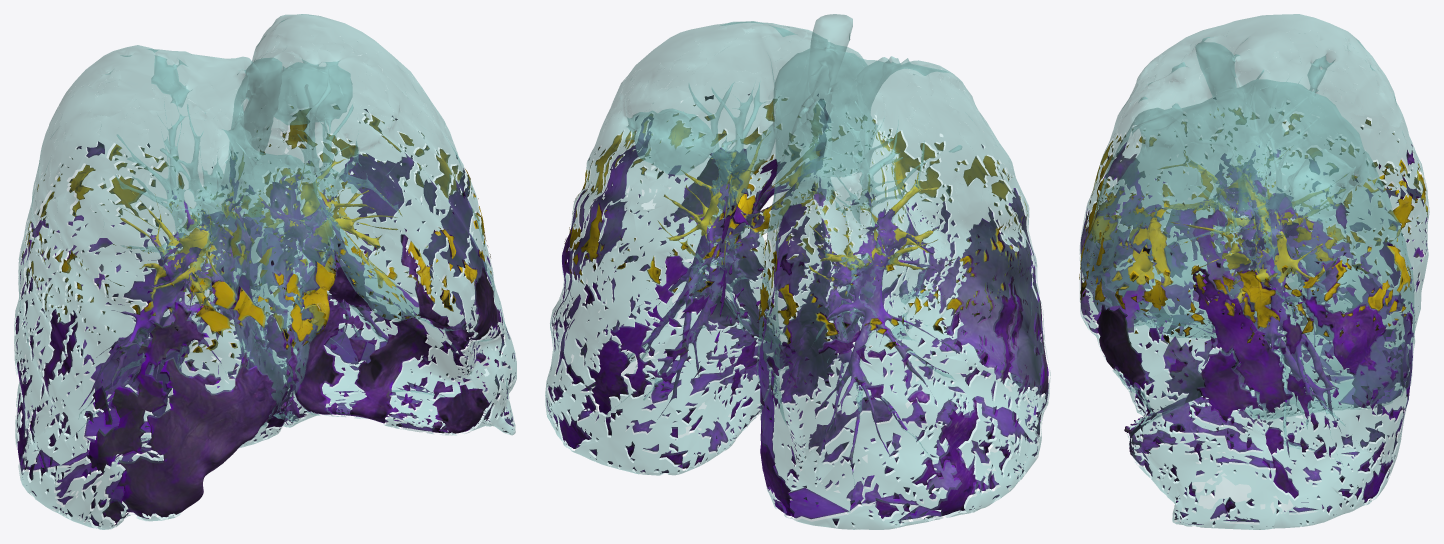
File: tbc-tratamiento.glb
3 renders of one model, left to right at view 1: azimuth 30°, elevation 25°; view 2: azimuth 150°, elevation 25°; view 3: azimuth 270°, elevation 25°, orthographic. The views are drawn at different scales.
Visible parts, largest first — view 1: Object_2, Object_6, Object_3, Object_7; view 2: Object_2, Object_6, Object_3, Object_7; view 3: Object_2, Object_6, Object_3, Object_7.
Boxes of the visible parts, x1,y1,x2,y2 form: Object_2: (14, 14, 516, 529); Object_6: (15, 109, 515, 526); Object_3: (31, 34, 476, 447); Object_7: (21, 105, 491, 362); Object_2: (545, 14, 1050, 529); Object_6: (546, 93, 1048, 525); Object_3: (551, 27, 1015, 489); Object_7: (564, 97, 1032, 349); Object_2: (1080, 14, 1429, 529); Object_6: (1080, 98, 1427, 527); Object_3: (1079, 29, 1414, 430); Object_7: (1079, 102, 1427, 348).
Bounding box in the file's own units: 2.7 × 2.39 × 2.02.
3 materials, 2 textured.
